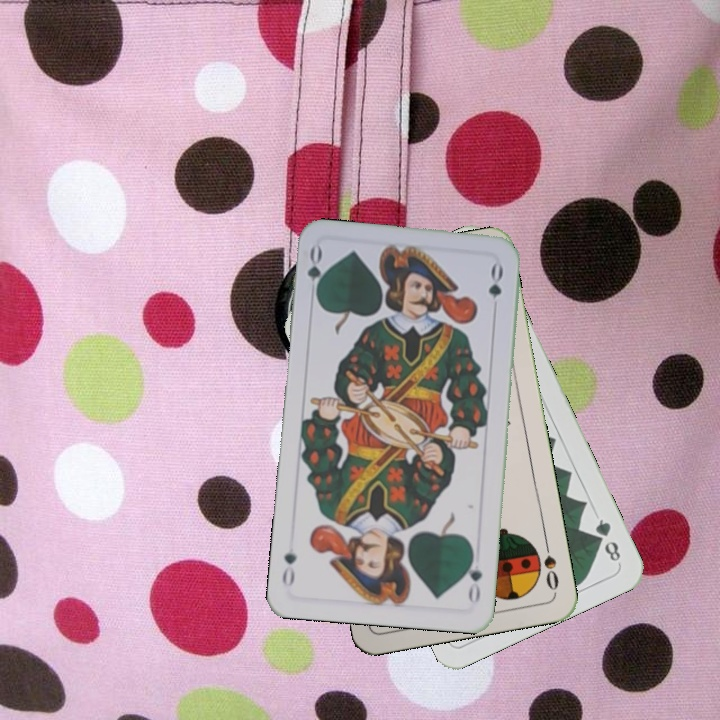G8: (591, 515, 623, 567)
GO: (303, 243, 328, 303), (462, 547, 485, 607)
SO: (540, 537, 561, 596)
